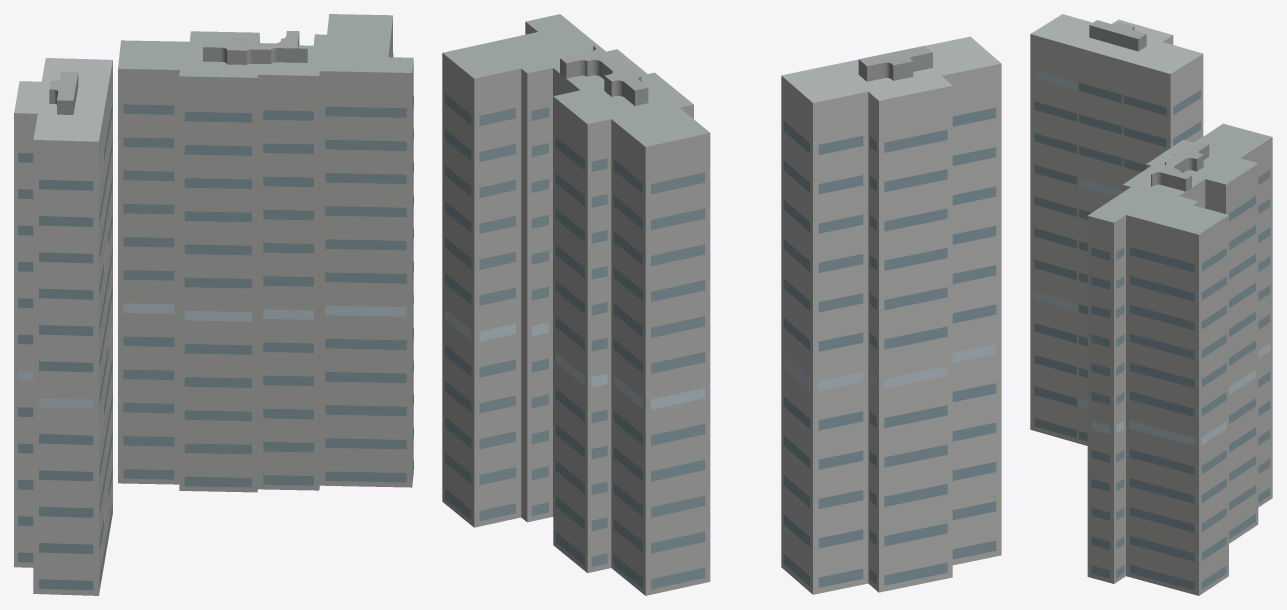
File: apt-a10024008.glb
The picture shows the model from 3 angles, left to right: view 1: azimuth 30°, elevation 25°; view 2: azimuth 150°, elevation 25°; view 3: azimuth 270°, elevation 25°; orthographic projection. The views are drawn at different scales.
Parts seen in each view (by area): view 1: apt-a10024008; view 2: apt-a10024008; view 3: apt-a10024008.
Part boxes in pixels (x1=…): apt-a10024008: x1=14, y1=14, x2=413, y2=595; apt-a10024008: x1=442, y1=14, x2=1001, y2=595; apt-a10024008: x1=1030, y1=14, x2=1272, y2=595.
Bounding box in the file's own units: 76.96 × 78.65 × 42.29.
